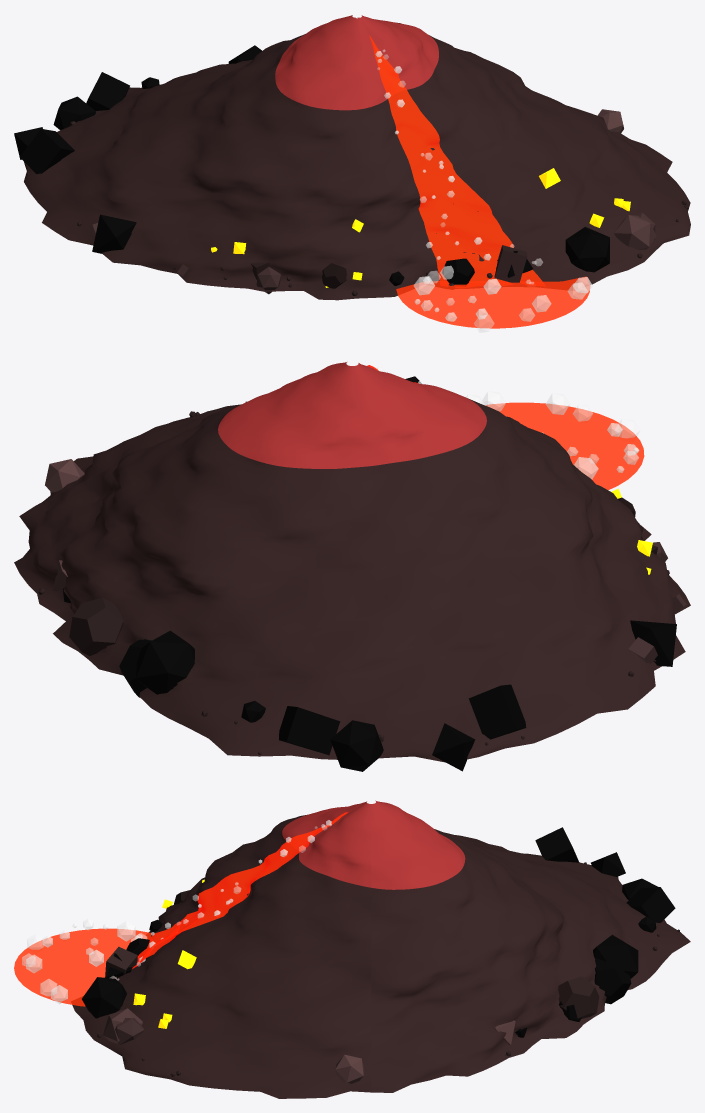
The model's file is montana_2.glb.
3 views of the same model, one above another, from view 1: azimuth 30°, elevation 25°; view 2: azimuth 150°, elevation 25°; view 3: azimuth 270°, elevation 25° (orthographic). The views are drawn at different scales.
Parts seen in each view (by area): view 1: tierra, cima, rio, poza_agua, roca_5, roca_24, roca_1, roca_21, roca_10, roca_3, roca_19, roca_14 (+1 smaller); view 2: tierra, cima, poza_agua, roca_15, roca_20, roca_24, roca_21, roca_19, roca_1, roca_11, roca_23, roca_22; view 3: tierra, cima, poza_agua, rio, roca_5, roca_20, roca_22, roca_21, roca_15, roca_24, roca_23, roca_3 (+3 smaller).
Boxes of the visible parts, box(x1,y1,x2,y2) form: tierra: box(24, 22, 690, 300); cima: box(275, 15, 438, 110); rio: box(369, 35, 542, 283); poza_agua: box(396, 276, 589, 328); roca_5: box(565, 227, 609, 272); roca_24: box(20, 128, 74, 174); roca_1: box(92, 214, 136, 253); roca_21: box(86, 72, 129, 110); roca_10: box(614, 215, 656, 249); roca_3: box(494, 245, 527, 282); roca_19: box(53, 96, 95, 130); roca_14: box(442, 258, 474, 284); tierra: box(14, 398, 690, 762); cima: box(218, 362, 486, 468); poza_agua: box(486, 402, 644, 490); roca_15: box(136, 630, 194, 694); roca_20: box(69, 597, 123, 656); roca_24: box(468, 684, 526, 739); roca_21: box(279, 706, 340, 755); roca_19: box(330, 720, 383, 771); roca_1: box(630, 620, 676, 666); roca_11: box(432, 723, 475, 771); roca_23: box(45, 459, 84, 492); roca_22: box(119, 639, 151, 697); tierra: box(72, 815, 690, 1098); cima: box(282, 800, 465, 889); poza_agua: box(14, 928, 151, 1006); rio: box(112, 812, 348, 978); roca_5: box(82, 977, 126, 1018); roca_20: box(558, 976, 599, 1018); roca_22: box(594, 958, 631, 1004); roca_21: box(626, 887, 675, 922); roca_15: box(593, 934, 638, 978); roca_24: box(535, 827, 579, 862); roca_23: box(335, 1054, 364, 1083); roca_3: box(105, 946, 137, 977).
Size of the model in its own units: 31.81 by 10.74 by 35.99.
